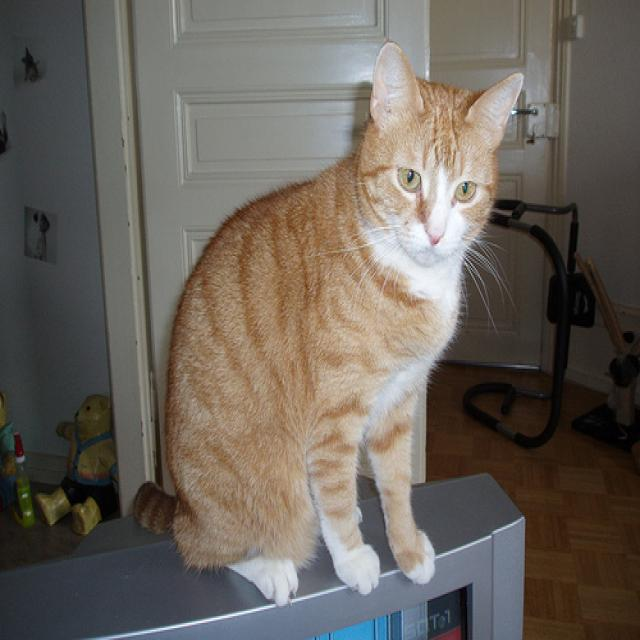left eye: (453, 176, 478, 201)
